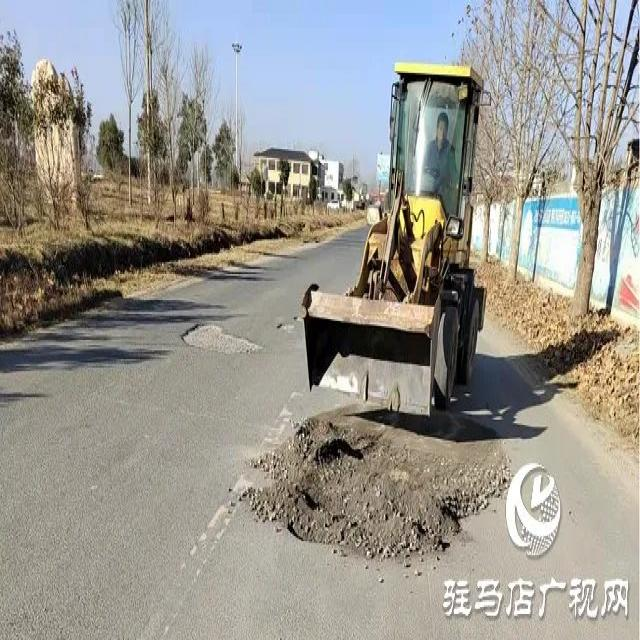Pothole: (254, 409, 512, 558), (180, 319, 262, 356), (274, 321, 293, 331)
